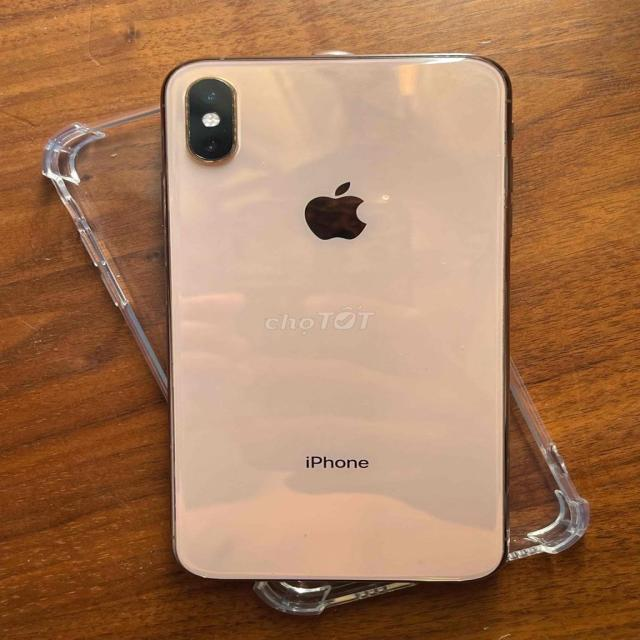gen_x_xs: (118, 51, 571, 600)
scratch: (178, 88, 201, 154), (230, 88, 244, 156), (190, 567, 220, 586), (292, 528, 316, 541)
